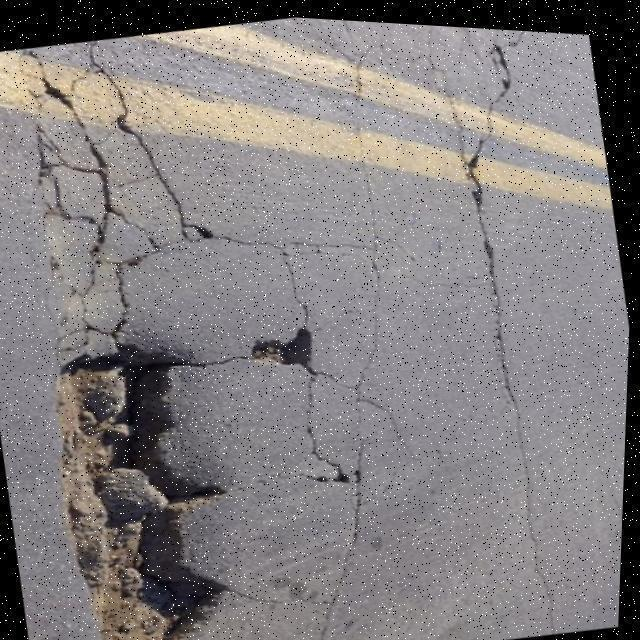Pothole: (40, 339, 240, 640), (242, 320, 323, 382)
